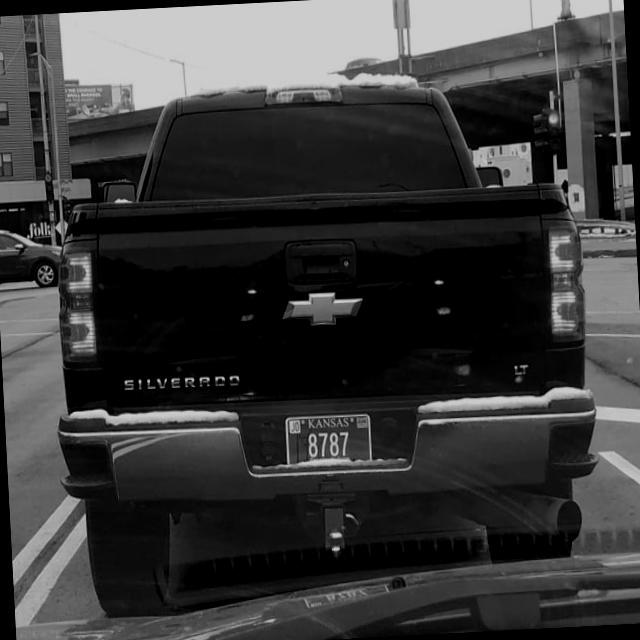LicensePlate: (285, 413, 372, 467)
